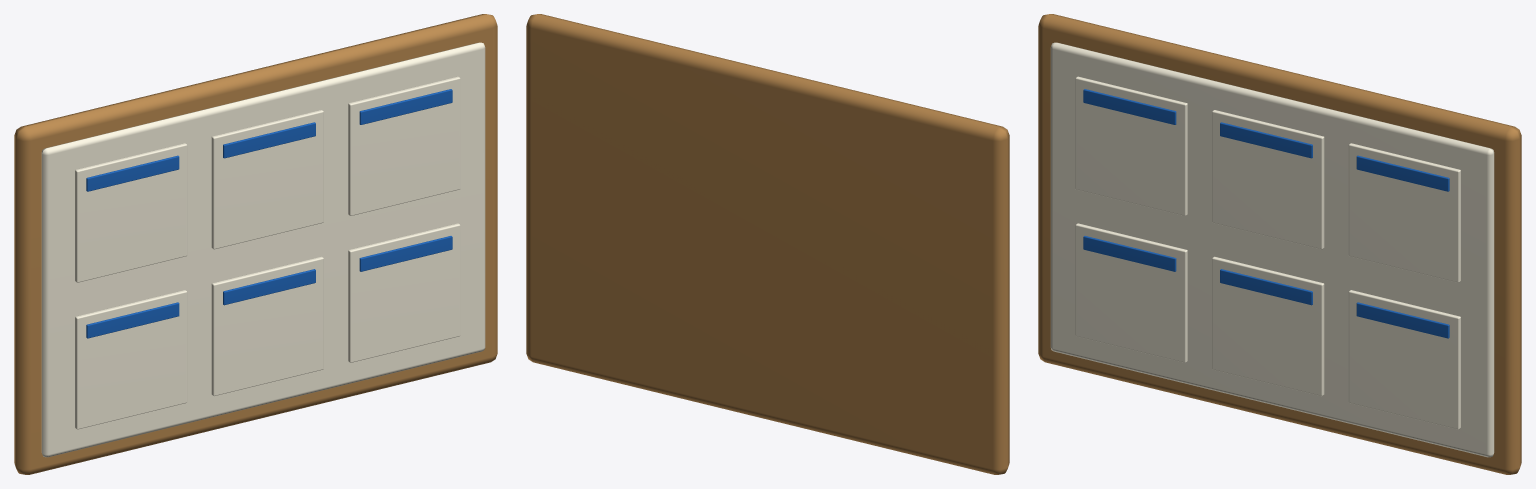
The model's file is NoticeBoard.fbx.
The picture shows the model from 3 angles, left to right: view 1: azimuth 30°, elevation 25°; view 2: azimuth 150°, elevation 25°; view 3: azimuth 330°, elevation 25°; orthographic projection.
Visible parts, largest first — view 1: Cream notice backing, Oak frame, Editable blank notice 0, Editable blank notice 3, Editable blank notice 2, Editable blank notice 5, Editable blank notice 1, Editable blank notice 4, Notice header 3, Notice header 0, Notice header 2, Notice header 5 (+2 smaller); view 2: Oak frame; view 3: Cream notice backing, Oak frame, Editable blank notice 2, Editable blank notice 5, Editable blank notice 0, Editable blank notice 3, Editable blank notice 1, Editable blank notice 4, Notice header 5, Notice header 0, Notice header 2, Notice header 3 (+2 smaller).
Boxes of the visible parts, x1,y1,x2,y2 form: Cream notice backing: (41,42,485,457); Oak frame: (14,14,497,474); Editable blank notice 0: (75,143,187,282); Editable blank notice 3: (75,290,187,429); Editable blank notice 2: (348,76,460,215); Editable blank notice 5: (348,223,460,362); Editable blank notice 1: (211,110,323,249); Editable blank notice 4: (211,256,323,396); Notice header 3: (86,302,179,338); Notice header 0: (86,155,179,191); Notice header 2: (359,89,452,124); Notice header 5: (359,236,452,271); Oak frame: (526,14,1009,474); Cream notice backing: (1050,42,1494,457); Oak frame: (1038,14,1521,474); Editable blank notice 2: (1348,143,1460,282); Editable blank notice 5: (1348,290,1460,429); Editable blank notice 0: (1075,76,1187,215); Editable blank notice 3: (1075,223,1187,362); Editable blank notice 1: (1212,110,1324,249); Editable blank notice 4: (1212,256,1324,396); Notice header 5: (1356,302,1449,338); Notice header 0: (1083,89,1176,124); Notice header 2: (1356,155,1449,191); Notice header 3: (1083,236,1176,271).
Bounding box in the file's own units: 1.3 × 0.9 × 0.094.
